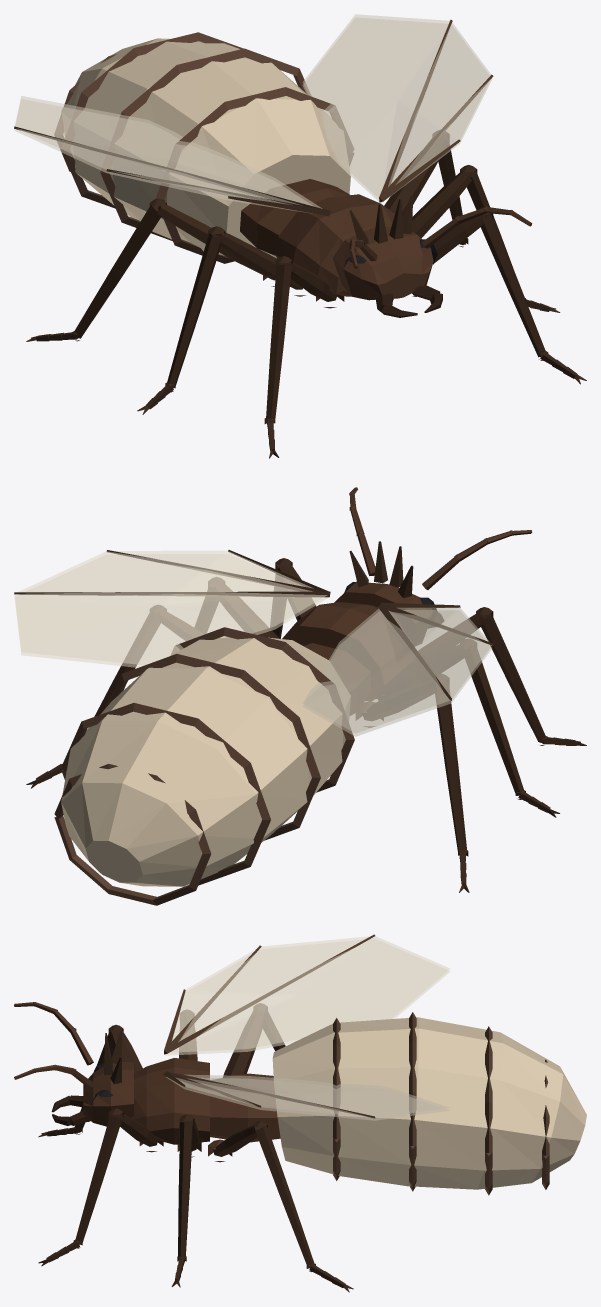
The model's file is queen.glb.
3 views of the same model, one above another, from view 1: azimuth 30°, elevation 25°; view 2: azimuth 150°, elevation 25°; view 3: azimuth 270°, elevation 25° (orthographic). The views are drawn at different scales.
Parts seen in each view (by area): view 1: queen_belly, wing_membrane001, wing_membrane002, queen_ring, ThoraxCore, HeadBase001, BeetleBodyInner, wing_vein002, Tibia001, Tibia003, wing_vein001, Tibia005 (+10 smaller); view 2: queen_belly, wing_membrane001, wing_membrane002, queen_ring, ThoraxCore, wing_vein001, Tibia005, Tibia003, HeadBase001, Tibia001, BeetleBodyInner, wing_vein002 (+10 smaller); view 3: queen_belly, wing_membrane002, wing_membrane001, ThoraxCore, queen_ring, BeetleBodyInner, HeadBase001, wing_vein002, Tibia004, Tibia002, Tibia000, Femur005 (+6 smaller).
Boxes of the visible parts, bbox=[...] form: queen_belly: bbox=[61, 38, 350, 258]; wing_membrane001: bbox=[302, 14, 491, 203]; wing_membrane002: bbox=[14, 96, 322, 212]; queen_ring: bbox=[54, 32, 353, 263]; ThoraxCore: bbox=[274, 194, 394, 296]; HeadBase001: bbox=[332, 226, 433, 300]; BeetleBodyInner: bbox=[240, 179, 350, 255]; wing_vein002: bbox=[14, 126, 330, 216]; Tibia001: bbox=[266, 264, 291, 422]; Tibia003: bbox=[167, 232, 221, 388]; wing_vein001: bbox=[379, 19, 493, 202]; Tibia005: bbox=[73, 204, 161, 338]; queen_belly: bbox=[61, 637, 350, 886]; wing_membrane001: bbox=[14, 550, 328, 667]; wing_membrane002: bbox=[303, 607, 491, 736]; queen_ring: bbox=[54, 627, 354, 905]; ThoraxCore: bbox=[282, 602, 414, 700]; wing_vein001: bbox=[14, 550, 330, 597]; Tibia005: bbox=[435, 682, 467, 854]; Tibia003: bbox=[464, 645, 524, 795]; HeadBase001: bbox=[334, 582, 432, 646]; Tibia001: bbox=[481, 613, 546, 742]; BeetleBodyInner: bbox=[303, 643, 370, 715]; wing_vein002: bbox=[377, 602, 493, 700]; queen_belly: bbox=[272, 1017, 586, 1189]; wing_membrane002: bbox=[166, 936, 450, 1055]; wing_membrane001: bbox=[166, 1074, 449, 1120]; ThoraxCore: bbox=[131, 1058, 209, 1144]; queen_ring: bbox=[333, 1012, 549, 1195]; BeetleBodyInner: bbox=[210, 1073, 280, 1142]; HeadBase001: bbox=[83, 1062, 133, 1126]; wing_vein002: bbox=[164, 934, 375, 1054]; Tibia004: bbox=[255, 1126, 314, 1268]; Tibia002: bbox=[178, 1121, 192, 1259]; Tibia000: bbox=[74, 1114, 122, 1244]; Femur005: bbox=[223, 1009, 265, 1077].
Bounding box in the file's own units: 3.45 × 1.52 × 4.52.
